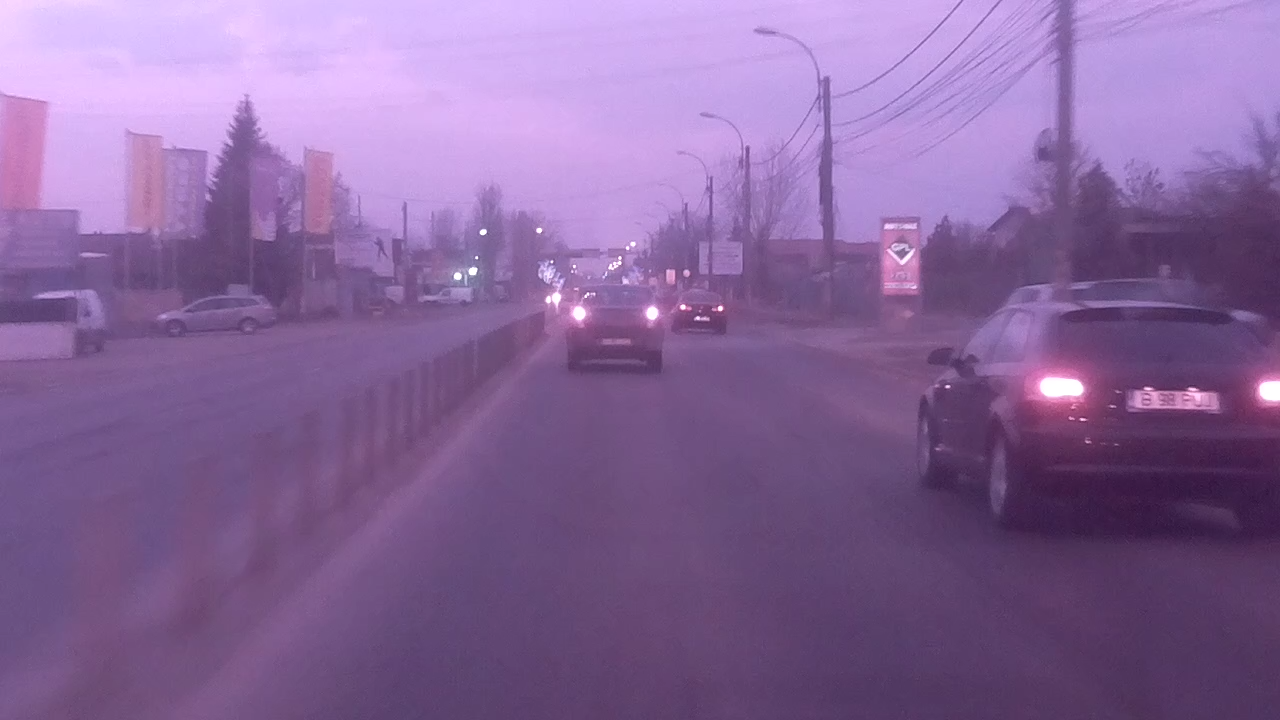license-plate: (1124, 388, 1222, 413)
